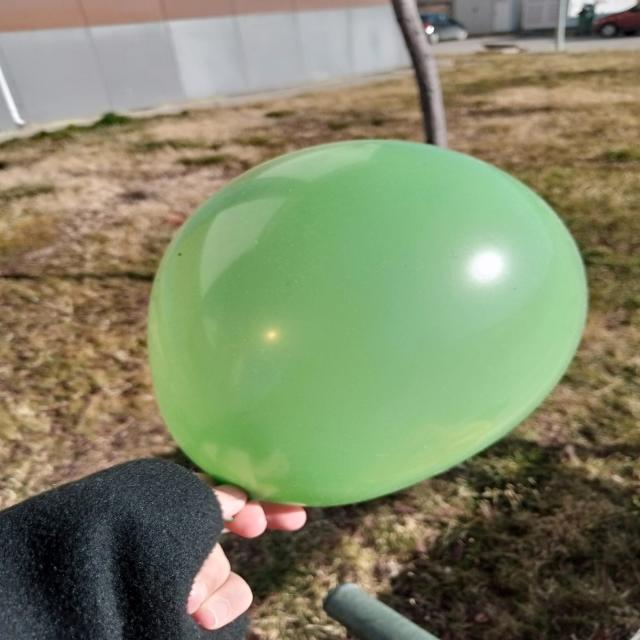balloon: (148, 140, 587, 506), (262, 334, 264, 336)
